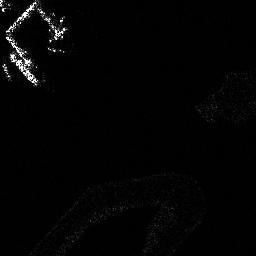ship: (8, 52, 38, 85)
